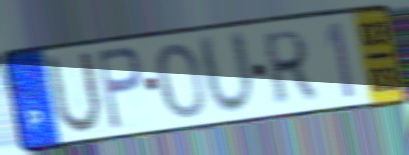1: (323, 19, 356, 102)
O: (154, 40, 207, 122)
P: (93, 43, 145, 133)
R: (262, 26, 319, 109)
U: (194, 28, 259, 119), (42, 49, 105, 138)
